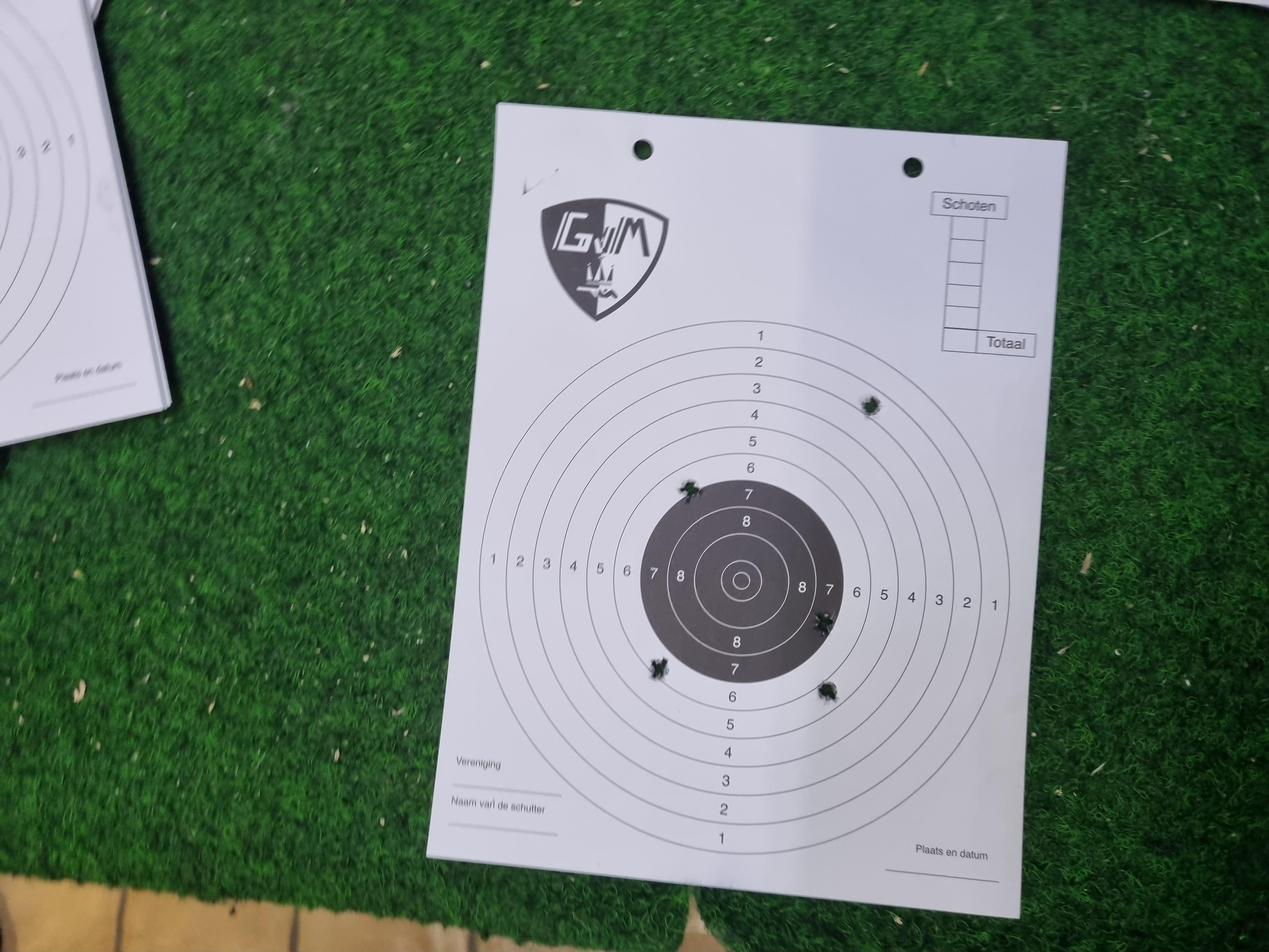hole: (597, 507, 629, 529), (329, 611, 361, 631), (712, 645, 746, 662), (361, 486, 393, 503), (421, 609, 452, 626)
